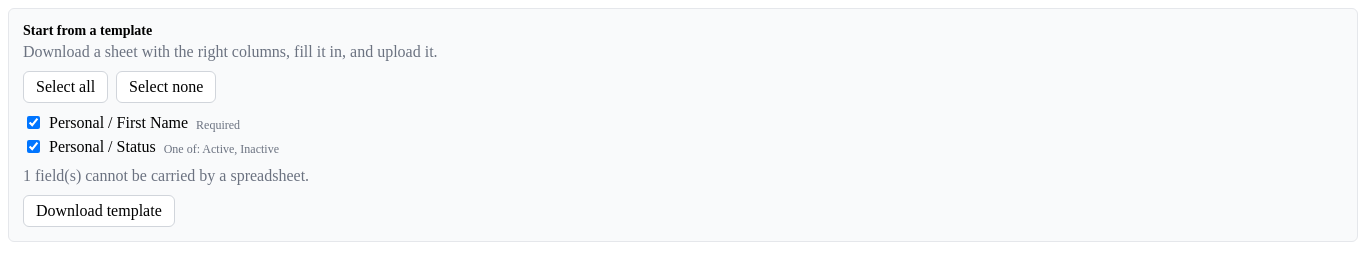
it: ImportTemplateComponent › cannot download an empty template
Click the button with test id "import-template-none".
click(166, 87)  # box [116,71,216,103]
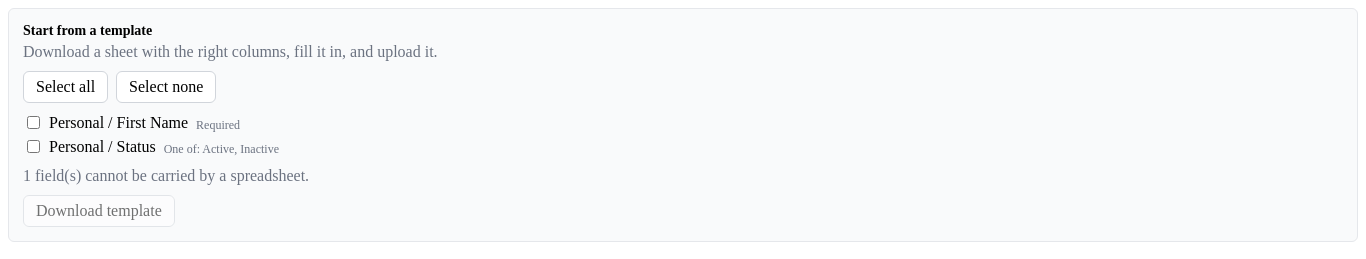
Expected: the button with test id "import-template-download" is disabled, [23,195,175,227]
